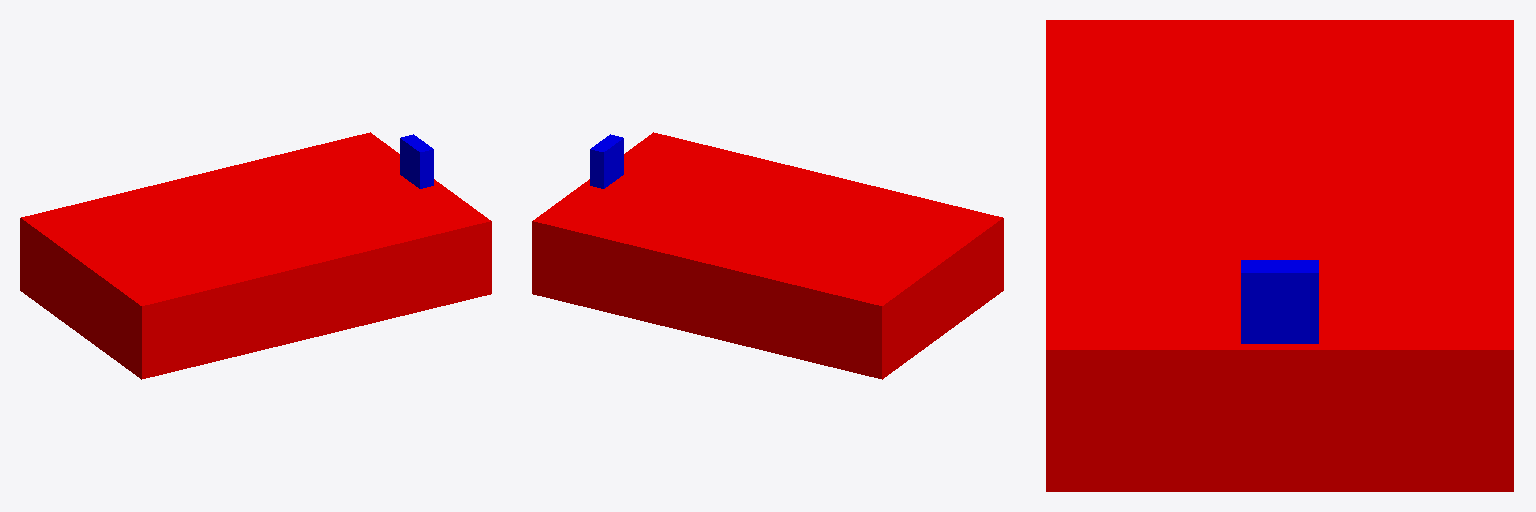
The robot description file, URDF, robot "demo03_bot":
<!-- 设置一个初始化link 通过关节连接base_link 通过偏移量让base_link 上移 避免一半在水平面一下 -->

<!-- 
    创建一个机器人模型 有底盘和摄像头组成 并且摄像头可以沿着z轴旋转

    1.创建底盘link
    2.创建摄像头link
    3.创建摄像头旋转关节joint

 -->

 <robot name="demo03_bot">

 <!-- 创建footprint_link -->
    <link name="footprint_link">
        <!-- 外观描述 -->
        <visual>
        <!-- 形状描述 -->
            <geometry>
                <!-- sphere是球体 -->
                <sphere radius="0.001"/>
            </geometry>
        </visual>
    </link>

    


 <!-- 创建底盘link -->
    <link name="base_link">
        <!-- 外观描述 -->
        <visual>
        <!-- 形状描述 -->
            <geometry>
                <!-- box是长方体 -->
                <box size="0.5 0.3 0.1"/>
            </geometry>
             <!-- 颜色    name 设置名字 rgb 是三原色 0-1.0   a是透明度 0为完全透明 1为完全不透明 -->
            <material name="red">
                <color rgba="1 0 0 0.5"/>
            </material>

        </visual>
    </link>

<!-- 创建摄像头link -->
    <link name="camera_link">
        <!-- 外观描述 -->
        <visual>
        <!-- 形状描述 -->
            <geometry>
                <!-- box是长方体 -->
                <box size="0.02 0.05 0.05"/>
            </geometry>
             <!-- 颜色    name 设置名字 rgb 是三原色 0-1.0   a是透明度 0为完全透明 1为完全不透明 -->
            <material name="blue">
                <color rgba="0 0 1 0.5"/>
            </material>
        </visual>
    </link>

    <joint name="base_link2footprint" type="fixed">
        <!-- 连接的两个link 父标签为footprint_link 子标签为base_link 固定类型 -->
        <parent link="footprint_link"/>
        <child link="base_link"/>

        <!-- 关节的原点位置 平移量旋转度 上移 -->
        <origin xyz="0.0 0.0 0.05" rpy="0 0 0"/>
    </joint>



    <!-- 创建摄像头旋转关节 -->
    <!-- 参数1 是关节名称 参数2 是关节类型 这里是continuous 表示360度可旋转 -->
    <joint name="camera2base_link" type="continuous">
        <!-- 连接的两个link 父标签为base_link 子标签为camera_link -->
        <parent link="base_link"/>
        <child link="camera_link"/>

        <!-- 关节的原点位置 平移量旋转度 -->
        <origin xyz="0.23 0.0 0.075" rpy="0 0 0"/>

        <!-- 关节的旋转轴 -->
        <axis xyz="0 0 1"/>

        <!-- 限制关节的旋转角度 -->
        <!-- <limit lower="-1.57" upper="1.57" effort="10" velocity="1"/> -->
    </joint>


 </robot>


 <!-- 使用这个验证旋转  ros2 run joint_state_publisher_gui joint_state_publisher_gui   -->

--- Render facts (derived) ---
The picture shows the robot from 3 angles, left to right: view 1: azimuth 30°, elevation 25°; view 2: azimuth 150°, elevation 25°; view 3: azimuth 270°, elevation 25°; orthographic projection.
Robot: demo03_bot — 3 links, 2 joints (1 continuous, 1 fixed); root link footprint_link; default pose: every joint at zero.
Visible links, largest first — view 1: base_link, camera_link; view 2: base_link, camera_link; view 3: base_link, camera_link.
Boxes of the visible links, <box> form: base_link: <box>20,132,491,379</box>; camera_link: <box>400,134,433,188</box>; base_link: <box>532,132,1003,379</box>; camera_link: <box>590,134,623,188</box>; base_link: <box>1046,20,1513,491</box>; camera_link: <box>1241,260,1318,343</box>.
Bounding box of the posed robot: 0.5 × 0.3 × 0.151 m (x, y, z).
Geometry: primitives only (box / cylinder / sphere), no mesh files.
